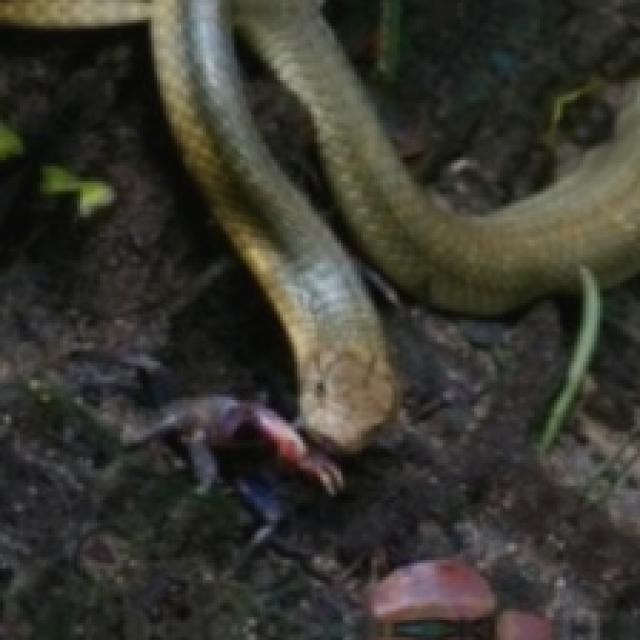king cobra: (0, 0, 637, 449)
